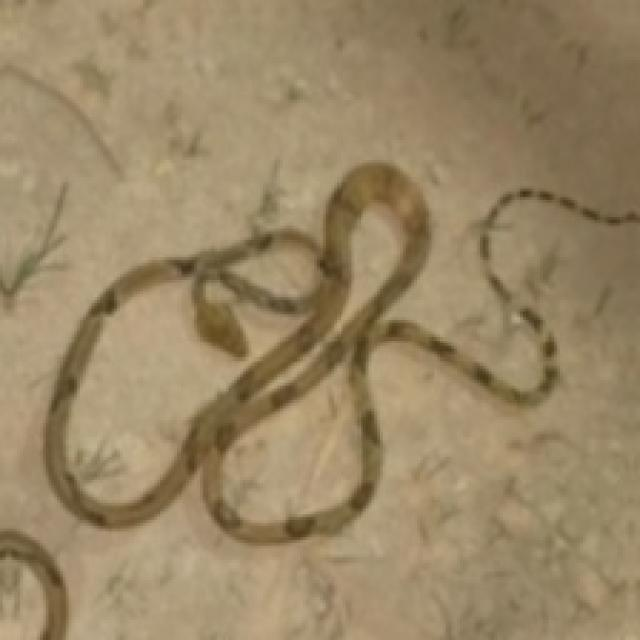dog-toothed cat snake: (46, 163, 637, 540)
